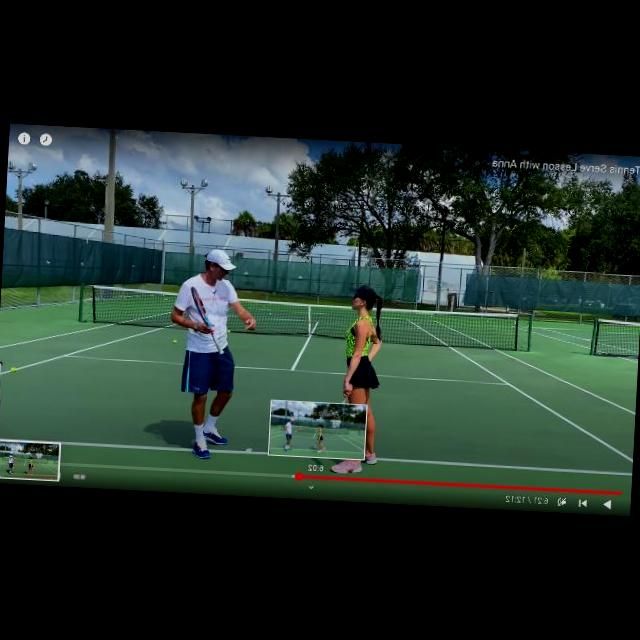Tennis Ball: (11, 367, 16, 372), (174, 339, 176, 344), (228, 330, 230, 333)
